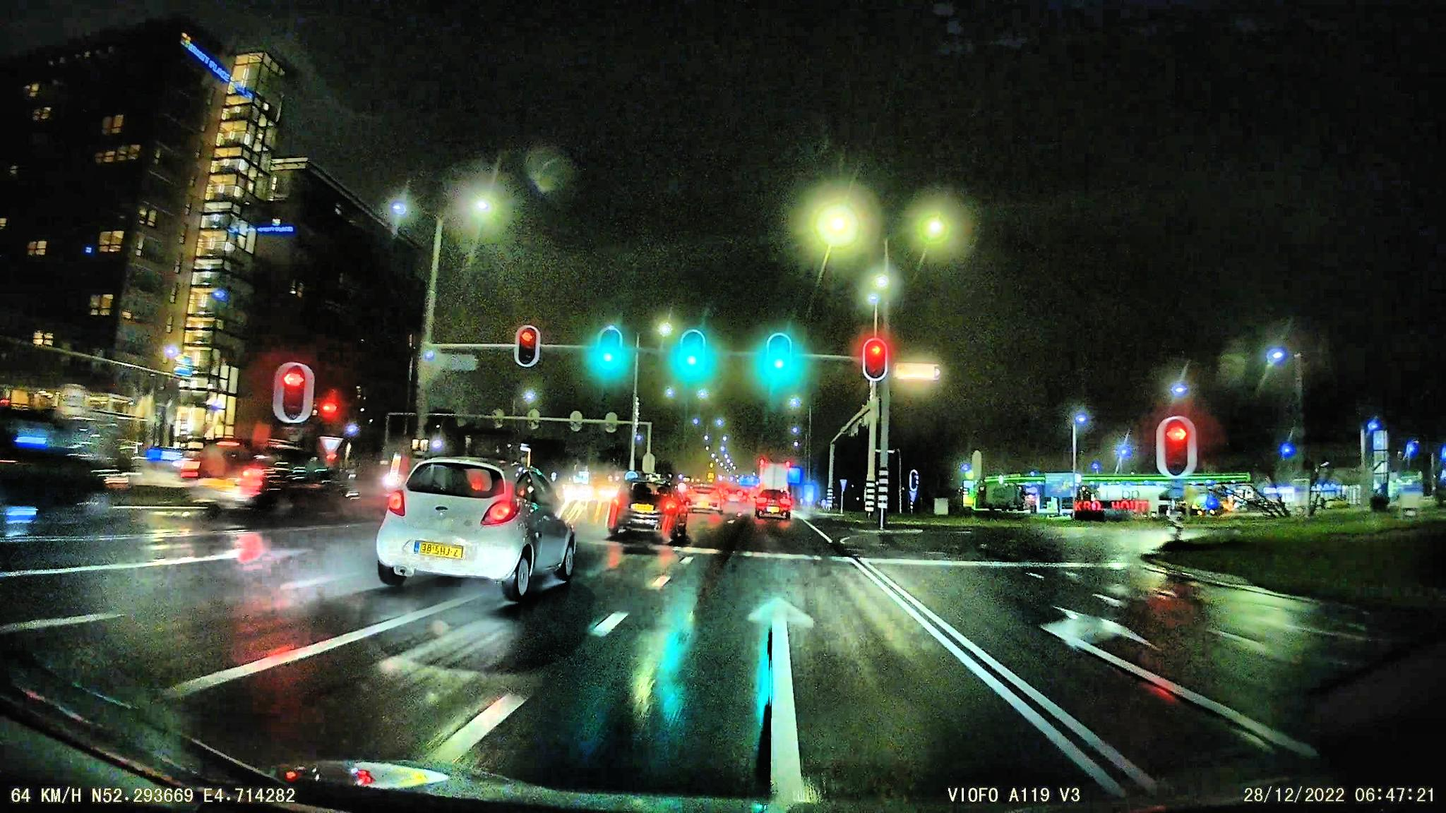Roads: (129, 510, 1379, 813)
